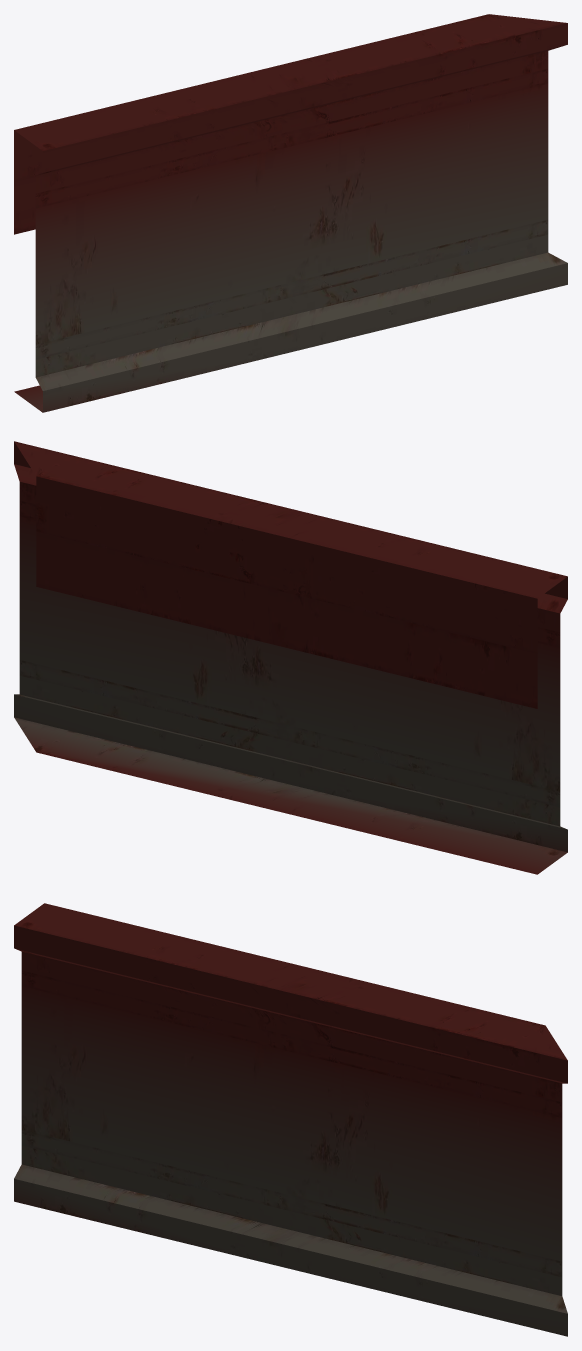
Rendered from Cornice_Metal_R.glb.
3 views of the same model, one above another, from view 1: azimuth 30°, elevation 25°; view 2: azimuth 150°, elevation 25°; view 3: azimuth 330°, elevation 25° (orthographic). The views are drawn at different scales.
Parts seen in each view (by area): view 1: Cornice_Metal_R; view 2: Cornice_Metal_R; view 3: Cornice_Metal_R.
Boxes of the visible parts, bbox=[...] form: Cornice_Metal_R: bbox=[14, 14, 567, 412]; Cornice_Metal_R: bbox=[14, 441, 567, 874]; Cornice_Metal_R: bbox=[14, 903, 567, 1336].
Bounding box in the file's own units: 2.1 × 1 × 0.2.
Materials: 1 (1 with a texture image).
